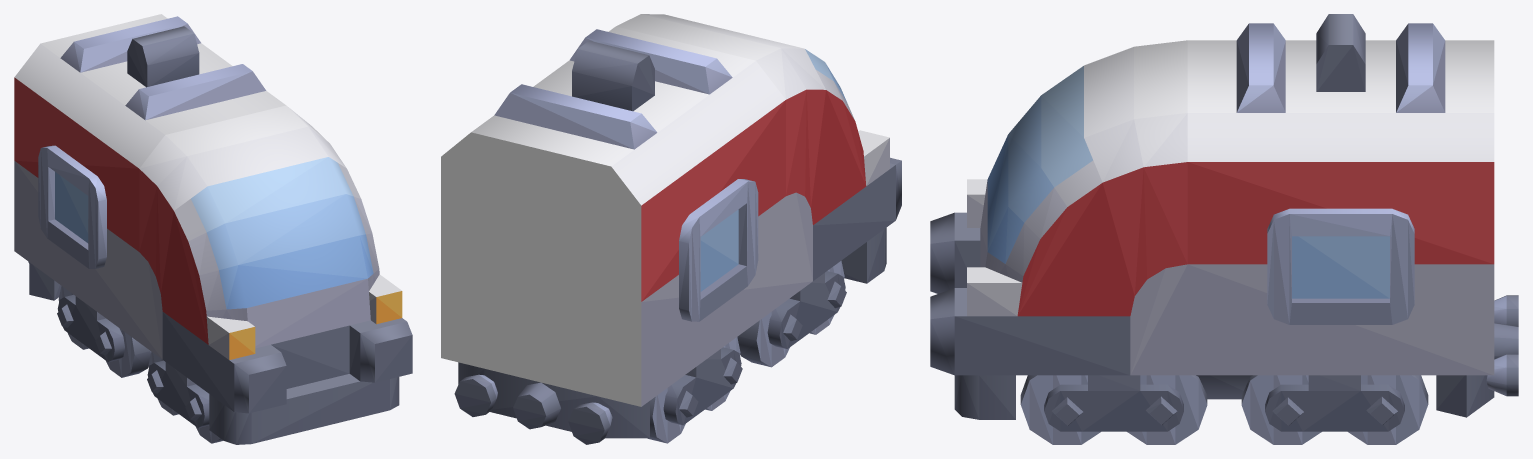
The model's file is train-electric-city-a.obj.
3 views of the same model, side by side, from view 1: azimuth 30°, elevation 25°; view 2: azimuth 150°, elevation 25°; view 3: azimuth 270°, elevation 25° (orthographic). The views are drawn at different scales.
Size of the model in its own units: 1.1 by 1.68 by 2.4.
